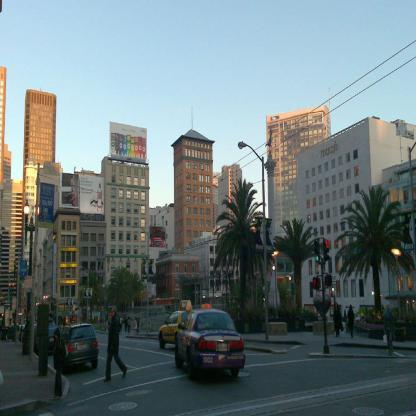car: (174, 308, 245, 380), (52, 324, 101, 373), (159, 300, 195, 352)
